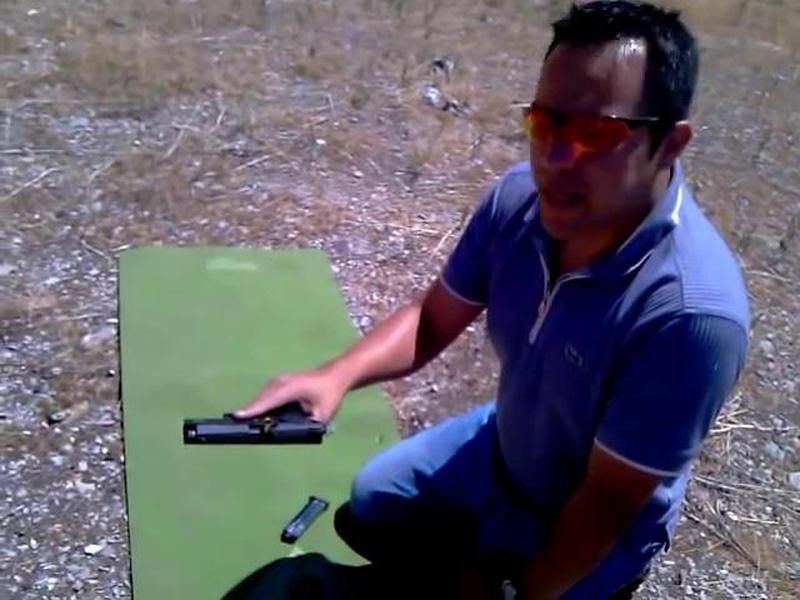Pistola: (163, 375, 346, 480)
